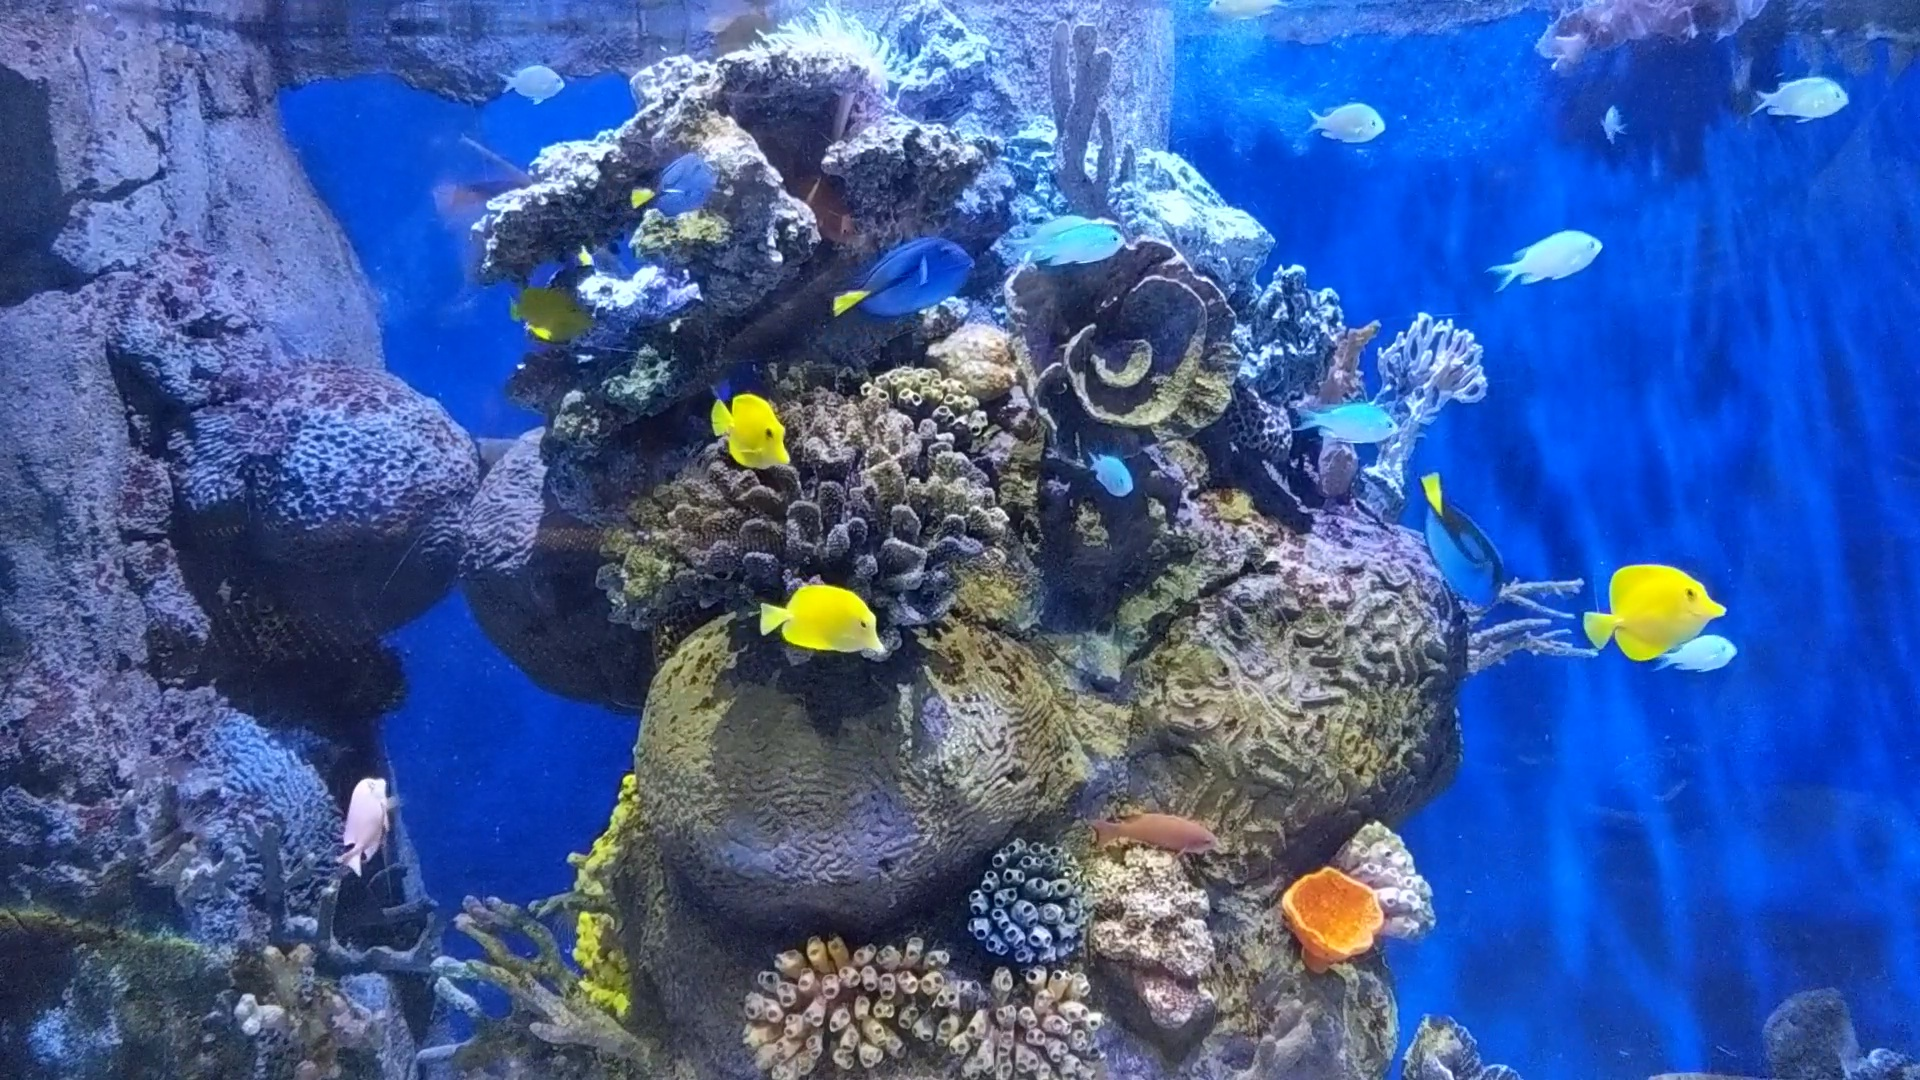blue tang surgeonfish: (1418, 465, 1516, 621), (825, 235, 975, 327), (622, 144, 731, 218)
damselfish: (1490, 225, 1604, 298), (994, 207, 1109, 265), (1283, 400, 1404, 448), (1749, 76, 1855, 124), (1029, 225, 1134, 270), (1305, 98, 1389, 144), (1654, 626, 1743, 669), (495, 53, 568, 102), (1088, 446, 1135, 512), (1199, 0, 1294, 26), (1596, 100, 1631, 158)
saddle butterfly fish: (1582, 560, 1730, 659), (746, 576, 889, 654), (512, 274, 624, 352), (705, 386, 800, 467)
